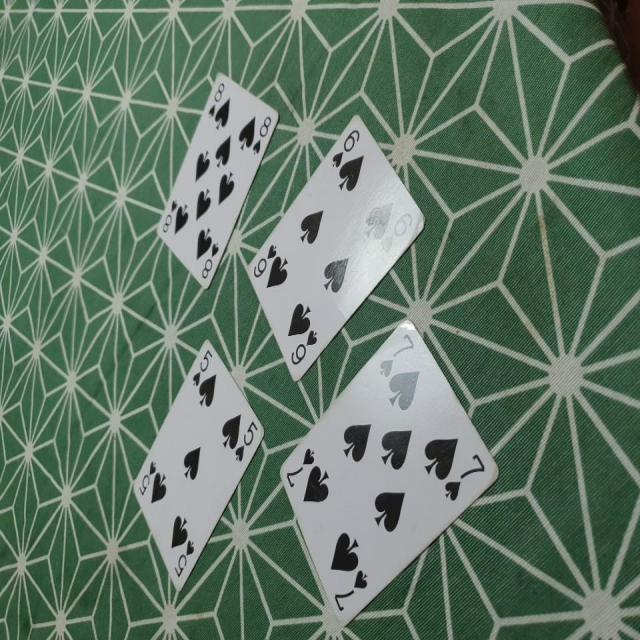5 Spades: (121, 331, 267, 601)
6 Spades: (248, 118, 433, 388)
7 Spades: (274, 308, 505, 640)
8 Spades: (152, 65, 285, 298)
